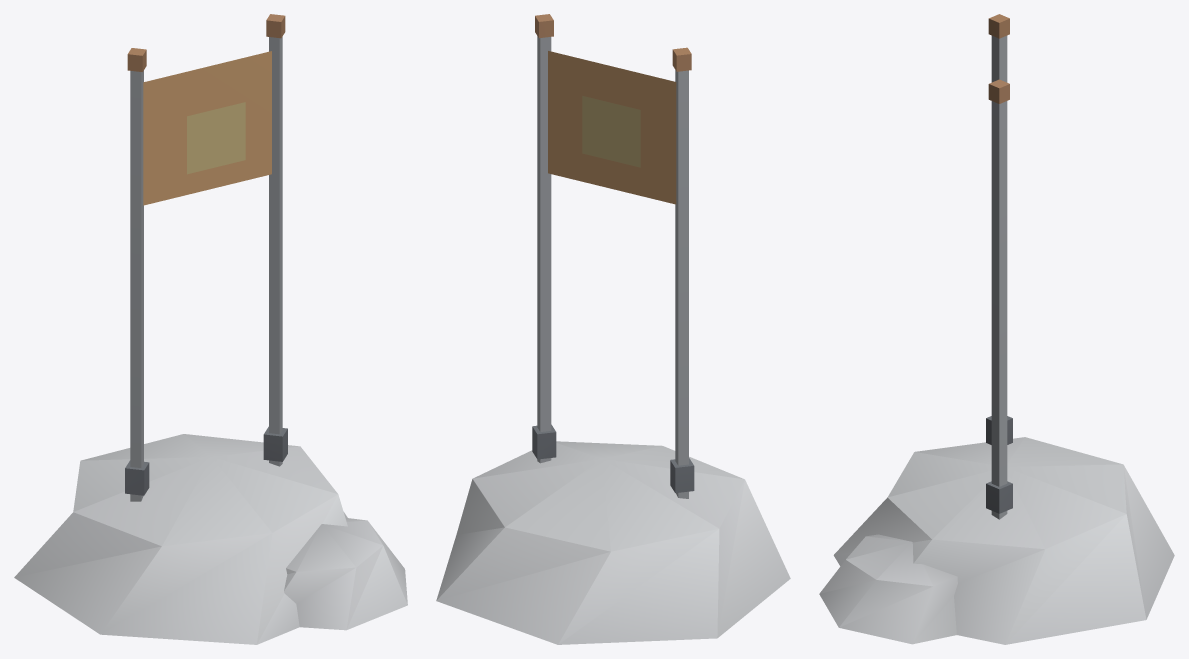
File: gate.lod1.glb
3 views of the same model, side by side, from view 1: azimuth 30°, elevation 25°; view 2: azimuth 150°, elevation 25°; view 3: azimuth 270°, elevation 25° (orthographic). The views are drawn at different scales.
Size of the model in its own units: 1.75 by 2.97 by 1.84.
